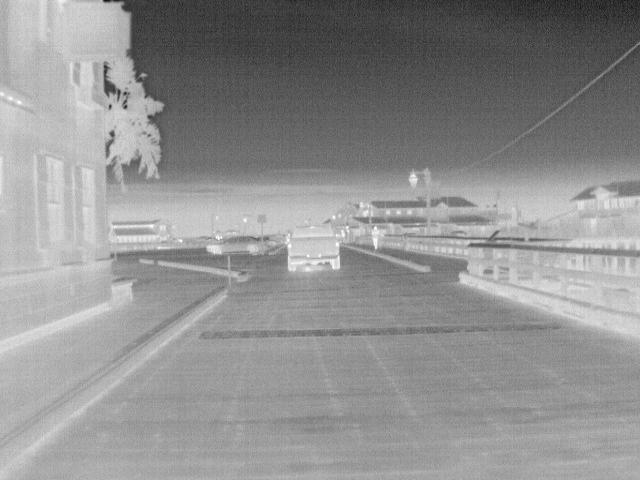car: (287, 222, 343, 271), (205, 235, 261, 257)
person: (368, 224, 383, 252)
